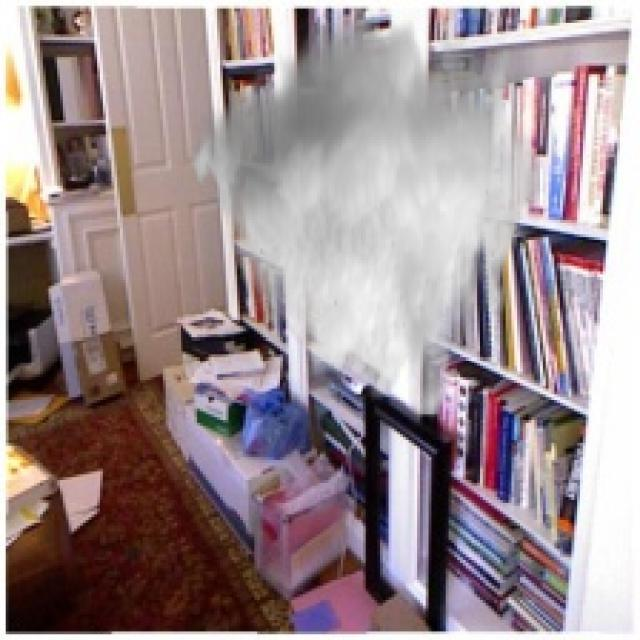Smoke: (183, 9, 540, 418)
